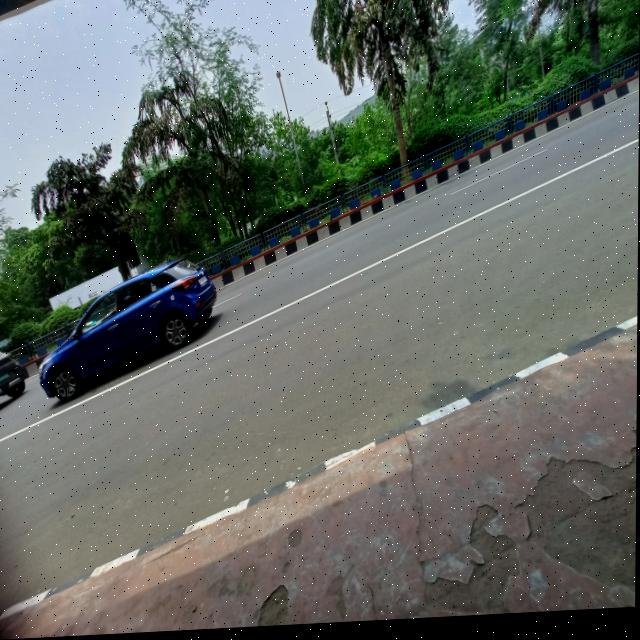car: (31, 258, 220, 404)
